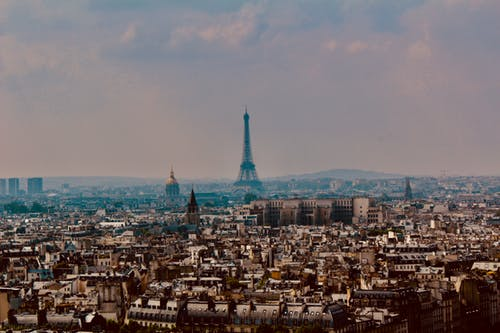eiffel tower: (221, 99, 273, 202)
